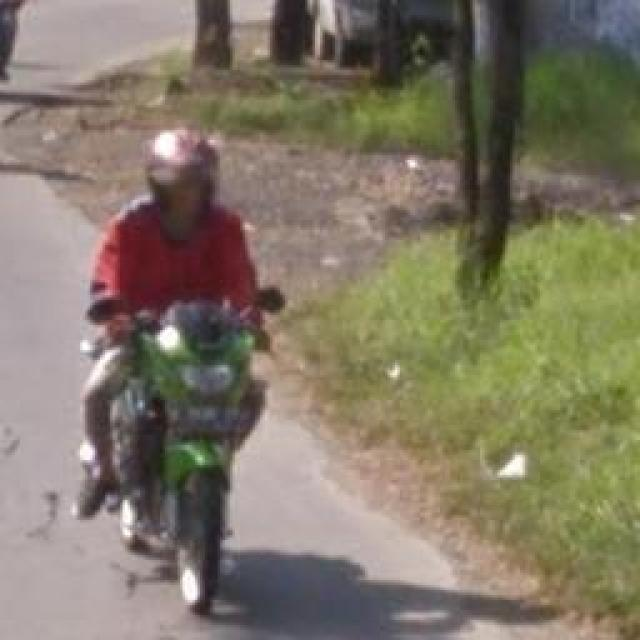motorbike: (51, 110, 296, 627)
